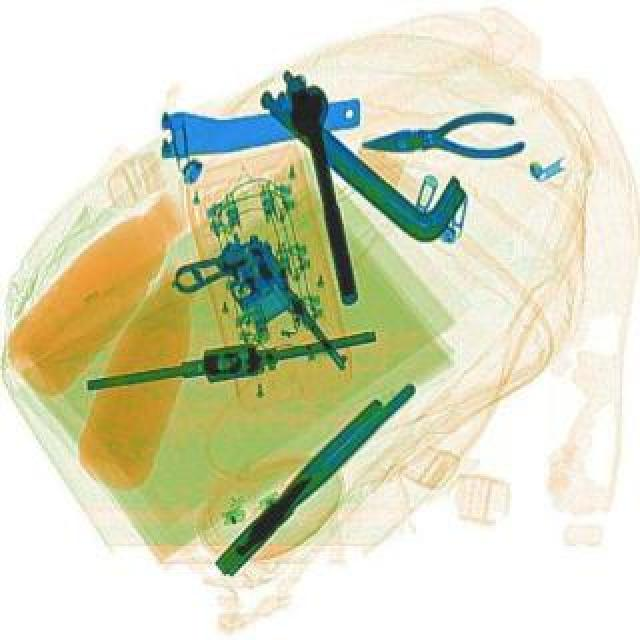gun: (166, 222, 350, 414)
wrench: (360, 106, 528, 168)
